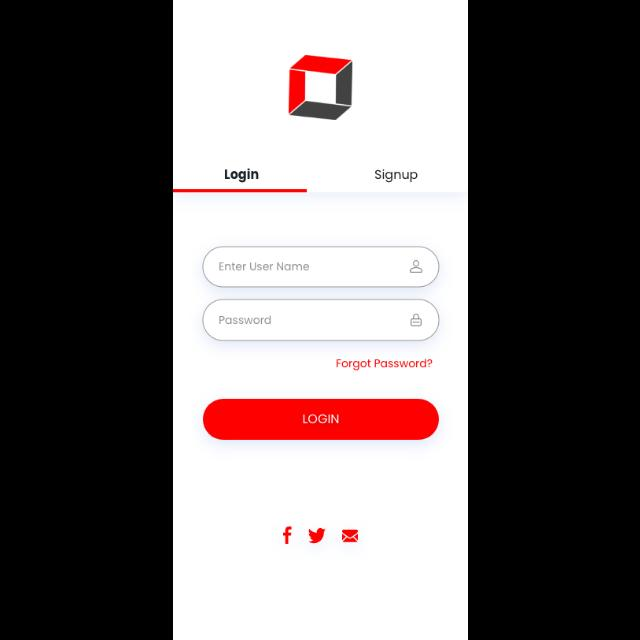icon: (308, 528, 326, 544), (342, 529, 358, 543), (282, 526, 292, 544), (410, 260, 422, 274), (411, 315, 422, 327)
image: (288, 55, 352, 121)
input: (202, 246, 440, 288), (202, 299, 440, 341)
multitab: (175, 154, 468, 192)
text: (336, 359, 432, 371), (220, 263, 308, 271), (375, 170, 417, 184), (224, 168, 258, 184), (219, 316, 271, 324)
textbutton: (202, 400, 440, 440)
